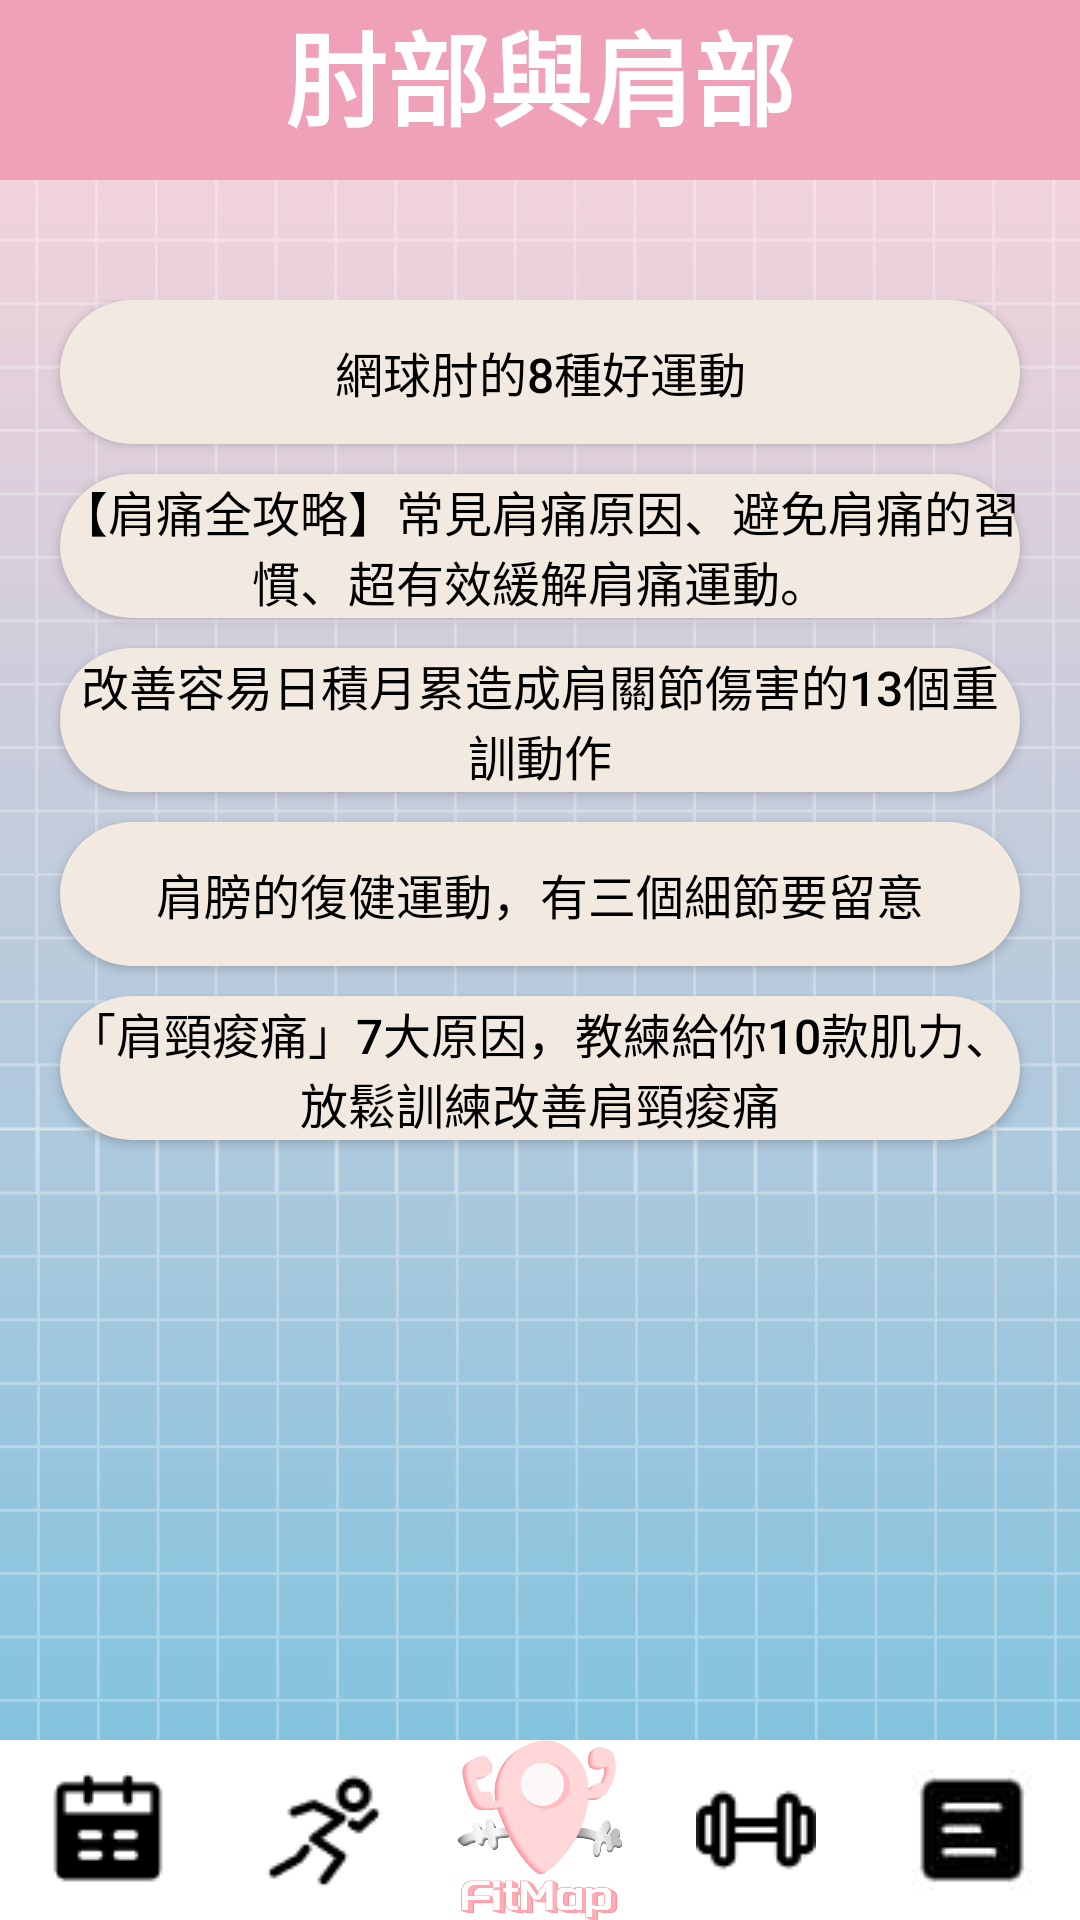

Named icons in this screenshot (1080*1920) and their bounding boxes, bbox=(x1, y1, x2, y2):
article: bbox=(920, 1778, 1024, 1882)
reservation: bbox=(53, 1774, 163, 1882)
run: bbox=(268, 1775, 380, 1885)
